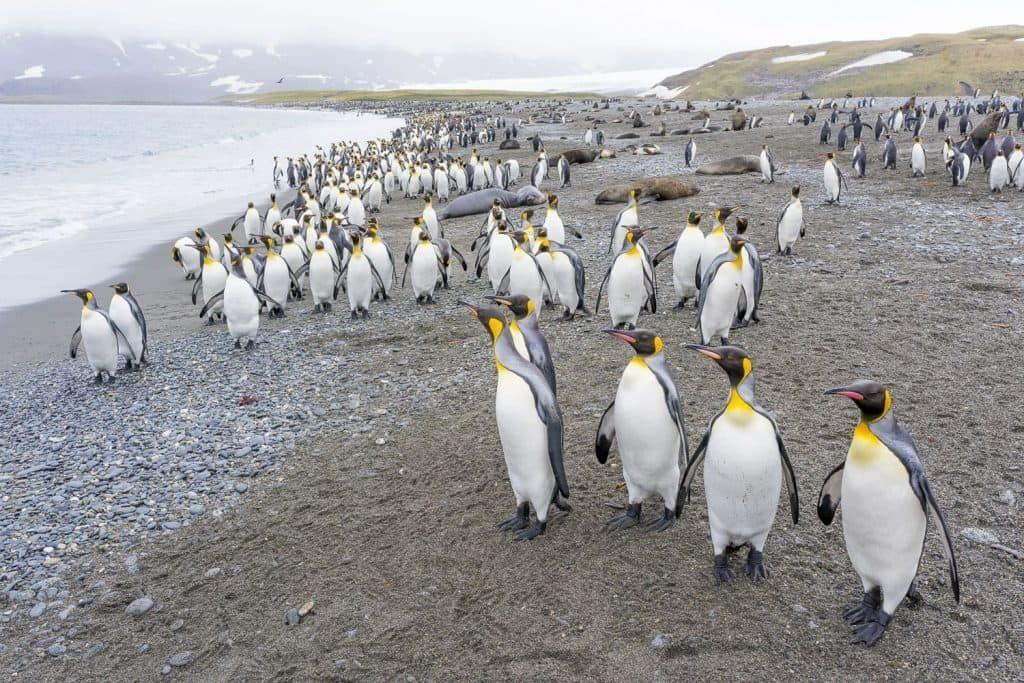Penguin: (818, 380, 960, 645), (676, 344, 798, 582), (458, 300, 568, 540), (596, 328, 688, 531), (698, 218, 762, 346), (487, 294, 556, 395), (200, 256, 276, 347), (63, 290, 133, 383), (596, 226, 656, 329), (652, 209, 703, 311), (536, 230, 590, 319), (498, 230, 552, 313), (336, 232, 388, 318), (402, 230, 448, 304), (108, 282, 146, 369), (694, 202, 735, 282), (258, 236, 296, 317), (600, 186, 642, 251), (477, 219, 511, 293), (362, 226, 395, 293), (776, 184, 806, 256), (308, 240, 338, 311), (192, 244, 228, 303), (541, 196, 580, 246), (433, 231, 467, 288), (472, 207, 512, 251), (229, 199, 262, 242), (519, 205, 549, 252), (319, 216, 344, 272), (172, 236, 202, 280), (230, 243, 260, 286), (824, 152, 848, 203), (263, 190, 287, 241), (407, 216, 433, 263), (482, 197, 515, 234), (944, 136, 970, 182), (984, 147, 1009, 190), (194, 229, 219, 265), (907, 134, 927, 176), (331, 216, 350, 260), (998, 126, 1024, 158), (365, 175, 390, 208), (271, 216, 299, 245), (758, 143, 777, 183), (960, 133, 983, 165), (345, 187, 365, 223), (1007, 144, 1023, 188), (283, 181, 306, 211), (880, 133, 899, 169), (427, 199, 445, 236), (434, 165, 451, 203), (292, 225, 313, 255), (849, 139, 866, 176), (403, 168, 422, 200), (843, 114, 866, 137), (381, 168, 396, 202), (557, 151, 571, 186), (889, 103, 906, 131), (305, 192, 323, 218), (912, 106, 927, 137), (333, 187, 350, 214), (303, 211, 317, 243), (319, 180, 335, 208), (684, 134, 697, 167), (483, 157, 498, 185), (982, 131, 994, 166), (474, 155, 485, 191), (367, 215, 384, 238), (873, 113, 890, 136), (221, 230, 233, 262), (532, 156, 544, 188), (504, 159, 519, 184), (958, 113, 974, 136), (837, 123, 850, 151), (423, 167, 435, 197), (457, 163, 469, 193), (494, 157, 504, 192), (818, 117, 831, 143), (449, 160, 461, 188), (926, 97, 939, 121), (272, 155, 282, 186), (539, 149, 549, 178), (285, 158, 295, 186), (399, 165, 411, 188), (580, 124, 592, 146), (939, 109, 950, 132), (905, 103, 914, 129), (999, 103, 1009, 126), (942, 137, 953, 157), (529, 133, 541, 151), (299, 158, 308, 180), (784, 109, 796, 124), (595, 128, 605, 145), (354, 172, 365, 187), (633, 112, 644, 127), (293, 165, 303, 181), (360, 173, 371, 187), (303, 154, 311, 172), (830, 102, 837, 122), (701, 113, 710, 127), (512, 124, 519, 141), (1017, 111, 1024, 128), (480, 127, 488, 141), (454, 130, 462, 144), (397, 162, 405, 175), (502, 126, 510, 139), (470, 128, 477, 142), (471, 150, 478, 163), (957, 103, 964, 116), (965, 101, 972, 114), (1012, 99, 1021, 109), (939, 98, 947, 109), (447, 132, 452, 149), (750, 113, 755, 130), (338, 177, 346, 187), (348, 177, 356, 186), (952, 103, 957, 117), (659, 123, 665, 133), (463, 132, 467, 146), (871, 97, 876, 107)
